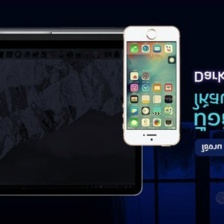phone: (119, 22, 183, 150)
